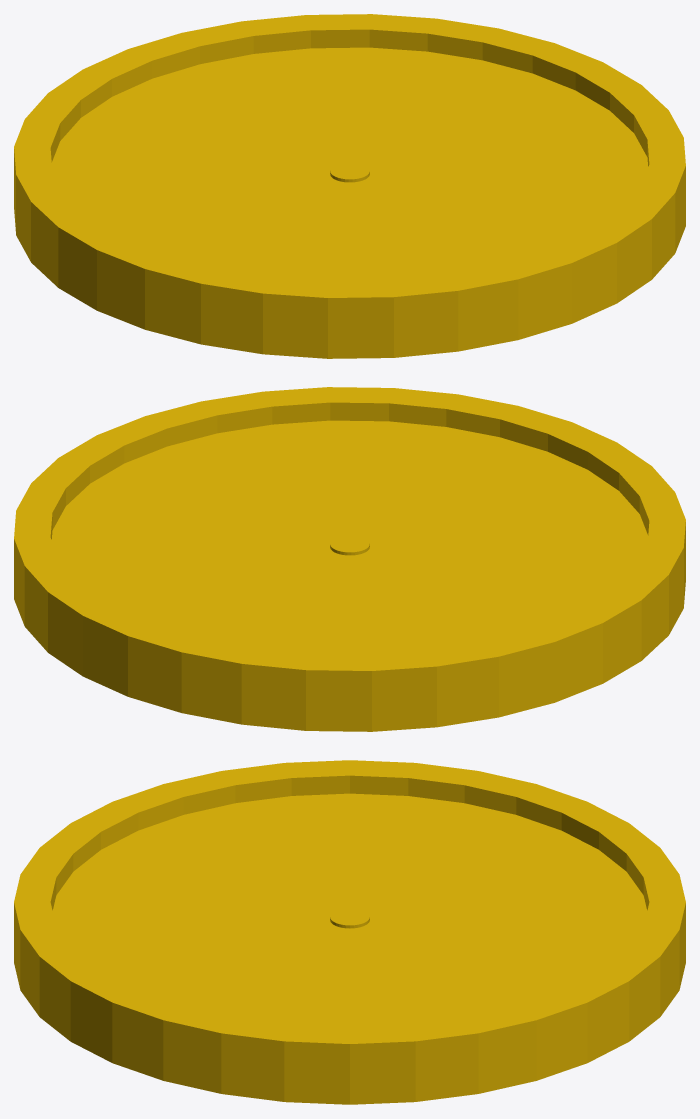
The model's file is Coin 0.1.fbx.
The picture shows the model from 3 angles, top to bottom: view 1: azimuth 30°, elevation 25°; view 2: azimuth 150°, elevation 25°; view 3: azimuth 270°, elevation 25°; orthographic projection.
Visible parts, largest first — view 1: Cylinder; view 2: Cylinder; view 3: Cylinder.
Boxes of the visible parts, x1=… form: Cylinder: x1=14, y1=14, x2=685, y2=358; Cylinder: x1=14, y1=387, x2=685, y2=731; Cylinder: x1=14, y1=760, x2=685, y2=1104.
Size of the model in its own units: 200 by 19.92 by 200.
